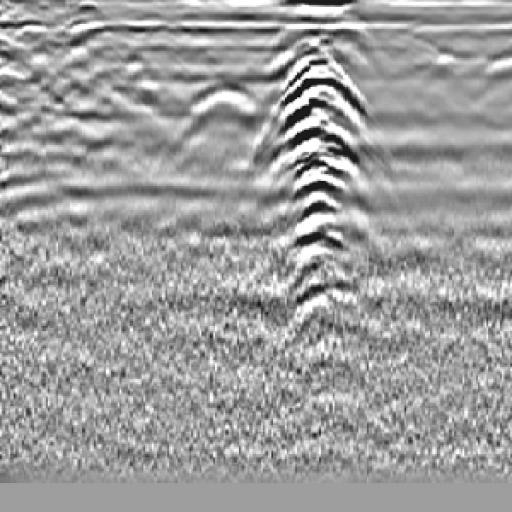metalic: (260, 32, 391, 345)
nonmetalic: (140, 55, 290, 184)
